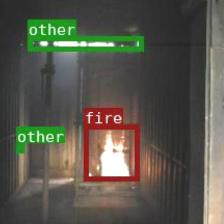fire: (83, 124, 138, 180)
